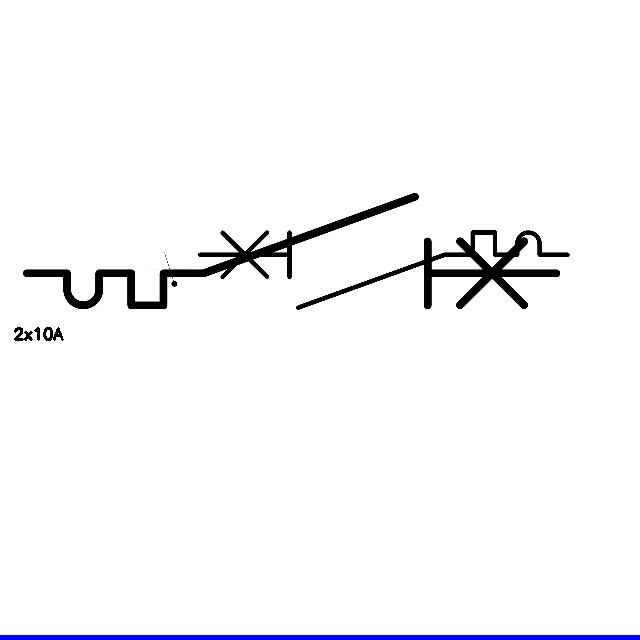interruptor_termomagnetico: (13, 183, 570, 319), (190, 223, 576, 317)
